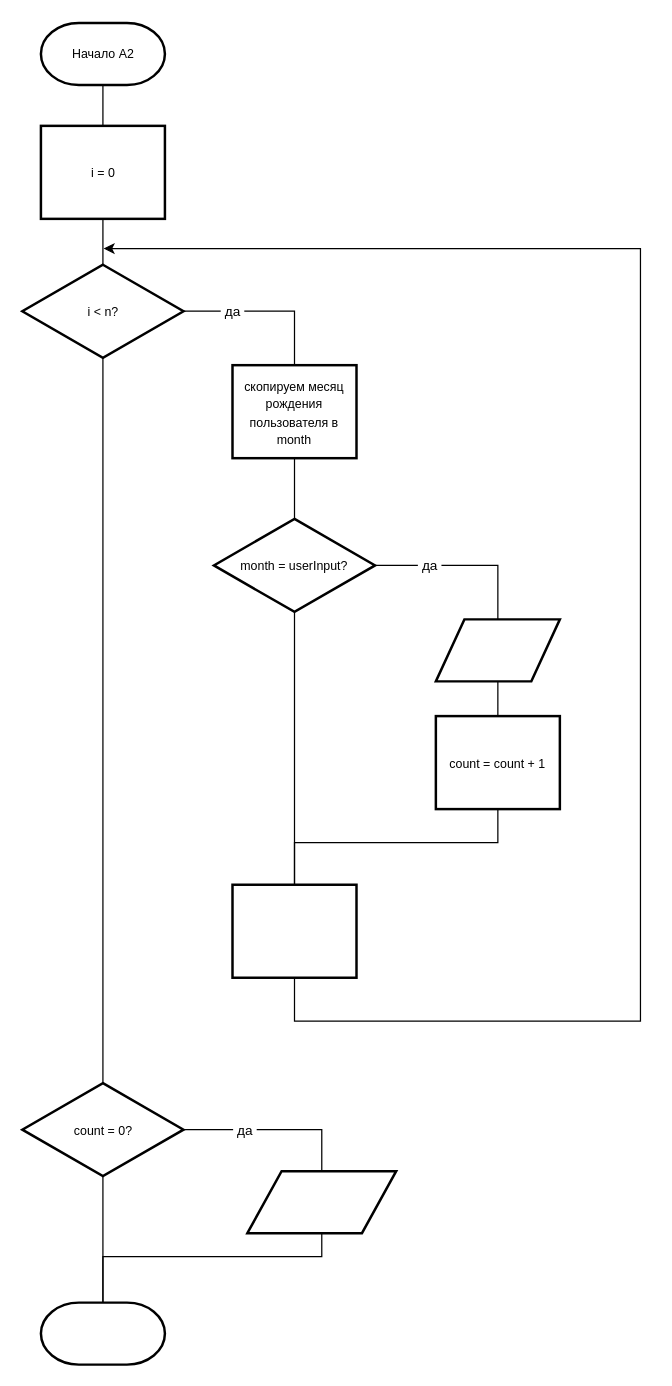
Some shapes in this 672 by 1386 pixel diagram are drawn without their labels. The shapes that lost their labels are listed below. From the top down, each one's box as (x1, y1, x2, y2) in pixels, then its label:
(434, 618, 560, 682): информация о пользователе
(231, 883, 357, 978): i = i + 1
(246, 1169, 397, 1234): пользователей, родившихся в этот месяц, нет
(39, 1301, 166, 1365): Конец А2
